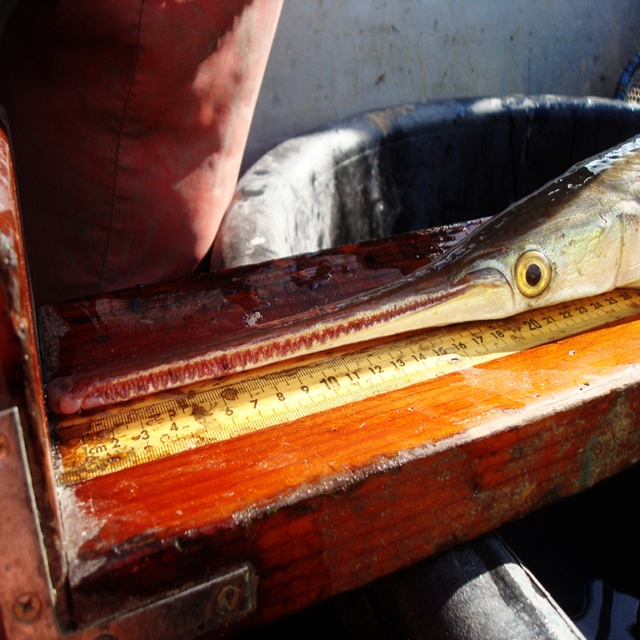Fish: (70, 119, 634, 500)
